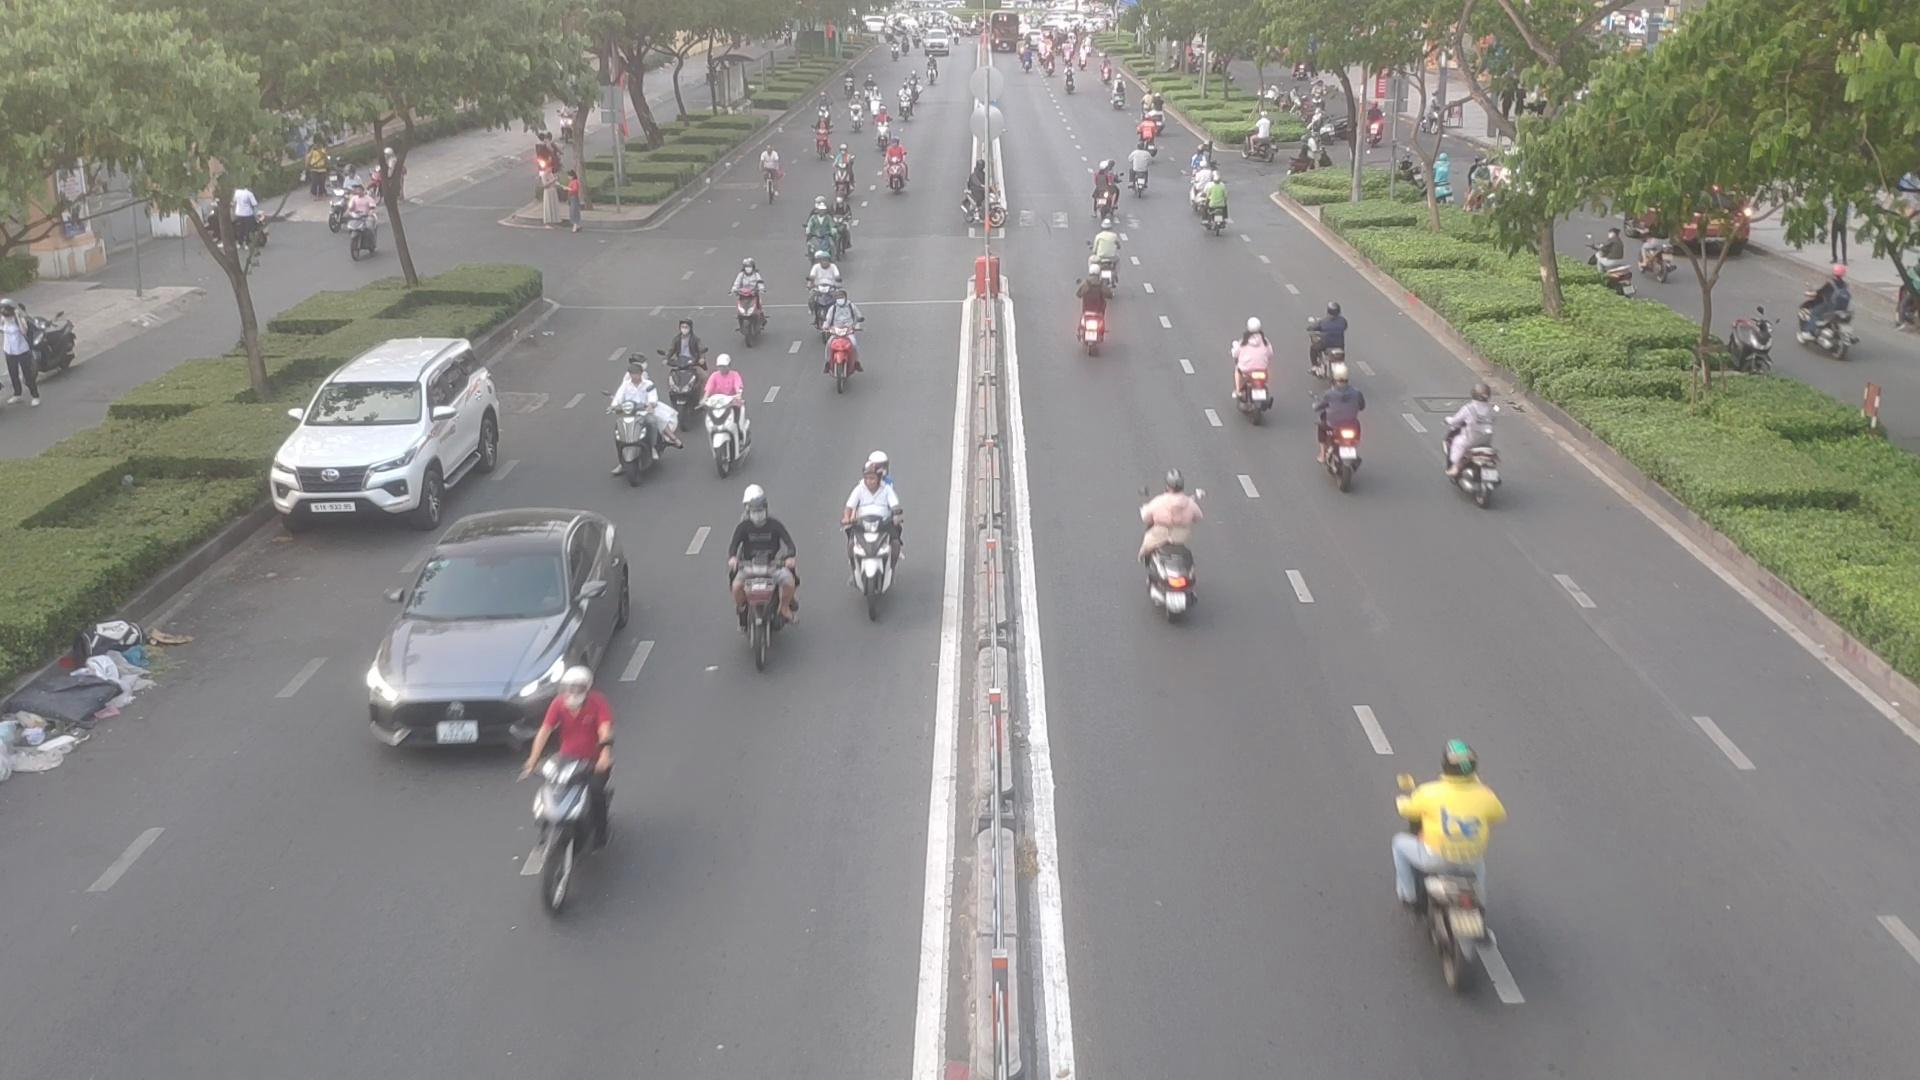car: (361, 504, 632, 750), (280, 332, 516, 524)
motorbike: (1390, 737, 1523, 976), (512, 671, 628, 907), (719, 508, 800, 675), (1130, 480, 1203, 621), (840, 465, 906, 617), (1441, 386, 1513, 508), (604, 380, 679, 487), (691, 357, 757, 473), (1309, 381, 1373, 491), (810, 284, 872, 385), (1226, 326, 1278, 415), (717, 256, 766, 342), (953, 164, 1013, 233), (651, 326, 709, 397), (1069, 272, 1117, 357), (1077, 227, 1127, 293), (1305, 306, 1352, 376), (1189, 179, 1232, 237), (803, 253, 837, 320), (831, 193, 862, 258), (1089, 162, 1122, 219), (878, 144, 913, 196), (804, 202, 832, 265), (1127, 148, 1155, 196), (832, 145, 853, 199), (816, 119, 829, 157), (878, 109, 890, 150)
